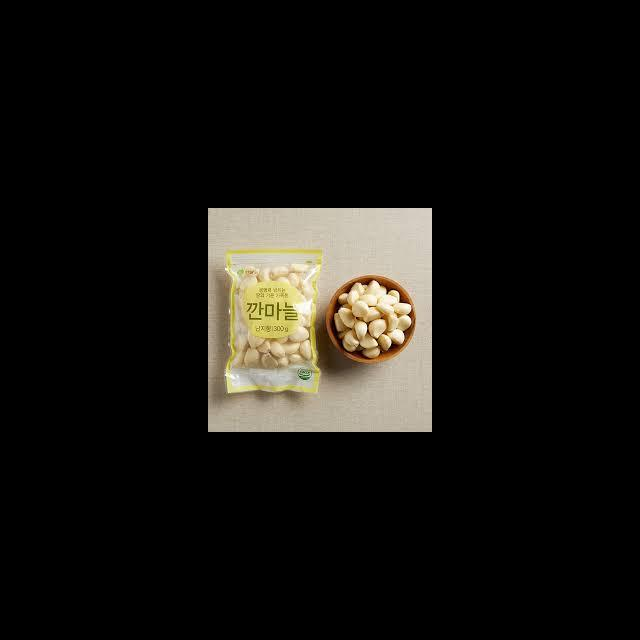garlic: (342, 287, 401, 349)
